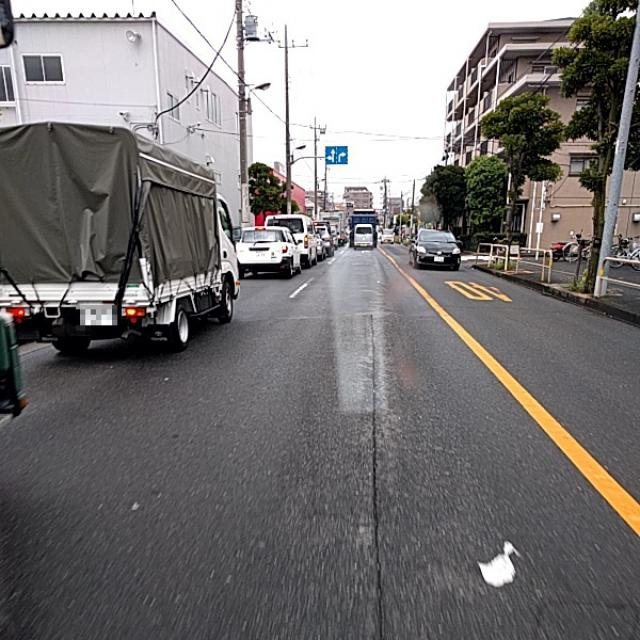pothole: (351, 438, 397, 516)
